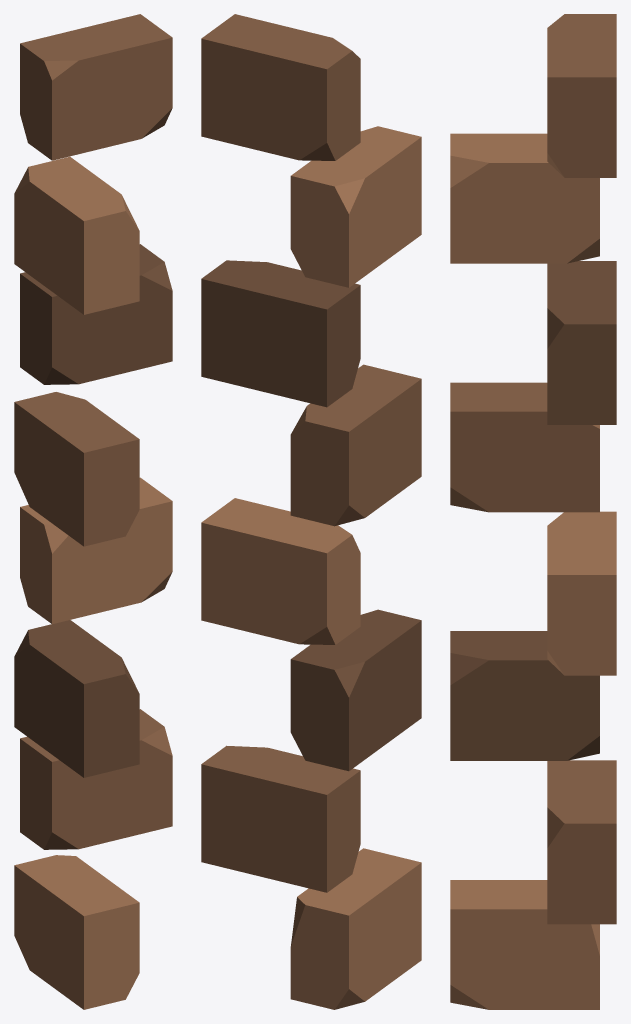
The model's file is SM_Bld_Wall_Brick_Corner_02.fbx.
3 views of the same model, side by side, from view 1: azimuth 30°, elevation 25°; view 2: azimuth 150°, elevation 25°; view 3: azimuth 270°, elevation 25° (orthographic). The views are drawn at different scales.
Visible parts, largest first — view 1: SM_Bld_Wall_Brick_Corner_02; view 2: SM_Bld_Wall_Brick_Corner_02; view 3: SM_Bld_Wall_Brick_Corner_02.
Part boxes in pixels (bbox=[...]): SM_Bld_Wall_Brick_Corner_02: bbox=[14, 14, 172, 1009]; SM_Bld_Wall_Brick_Corner_02: bbox=[201, 14, 421, 1009]; SM_Bld_Wall_Brick_Corner_02: bbox=[450, 14, 616, 1009].
Size of the model in its own units: 45.32 by 293 by 45.32.
1 material, 1 textured.
